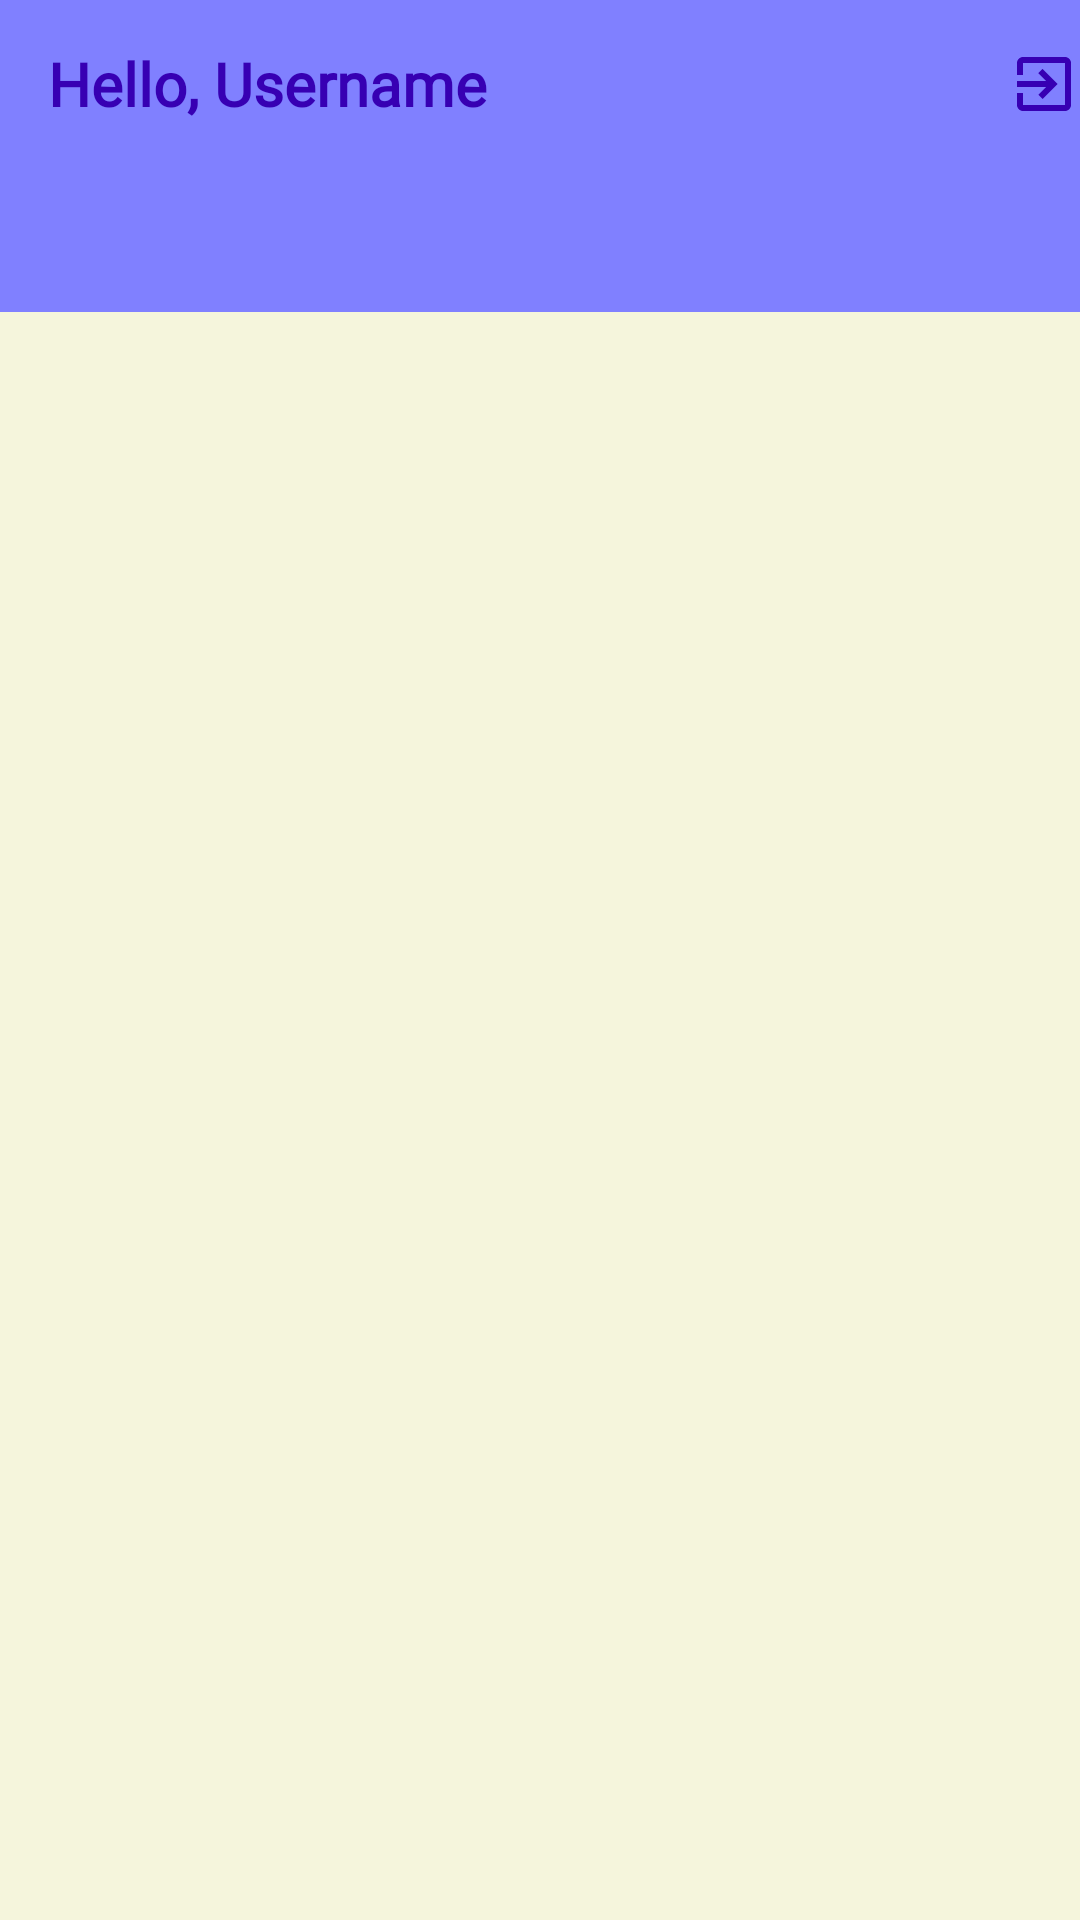

Where icons sit on this 1080px x 1920px app screen, as box(x1, y1, x2, y2):
exit: box(1017, 57, 1071, 111)
